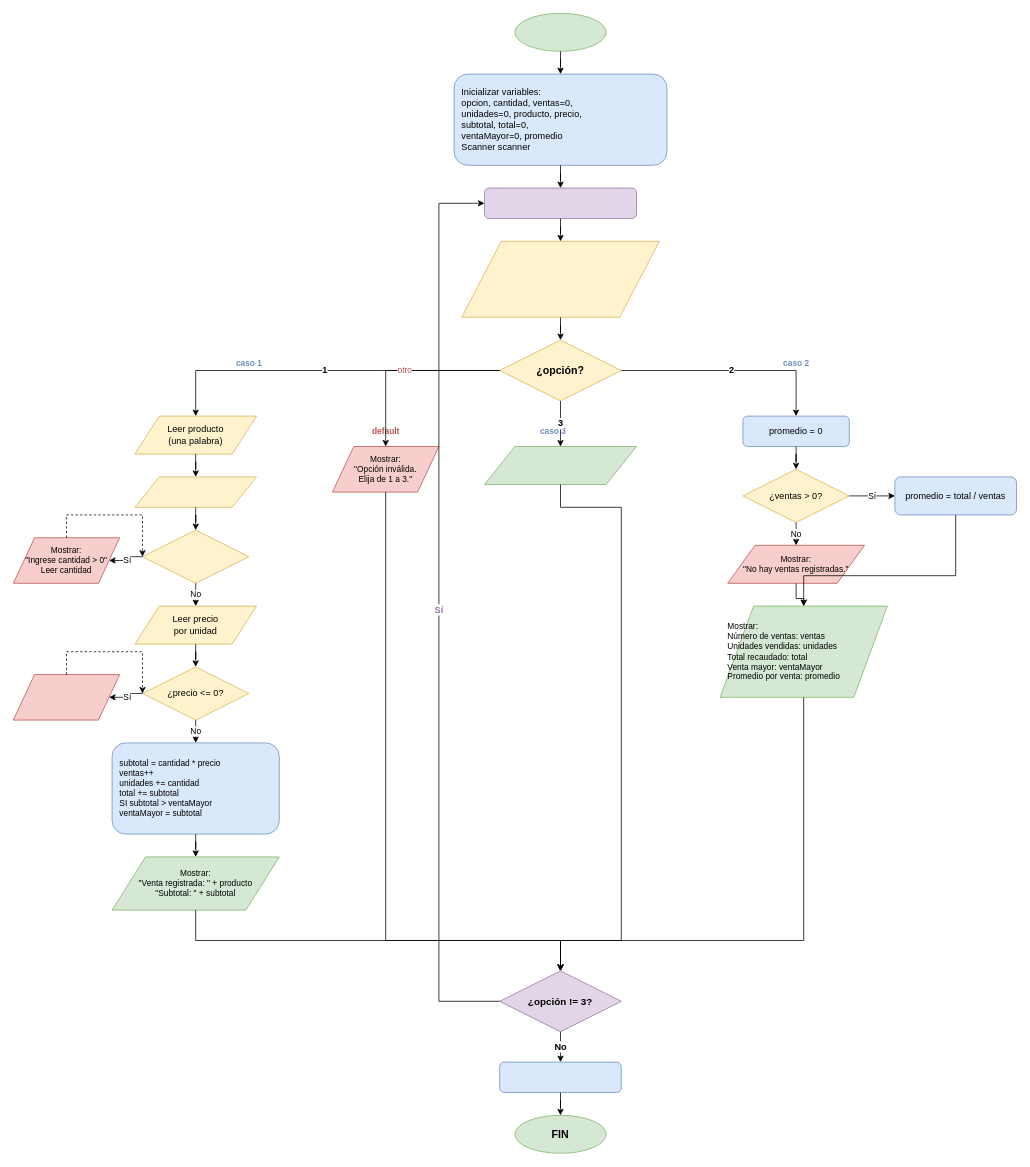
Some shapes in this 1030 by 1167 pixel diagram are drawn without their labels. The shapes that lost their labels are listed below. From the top down, each one's box as (x1, y1, x2, y2) in pixels, then its label:
(514, 13, 606, 51): INICIO
(484, 187, 636, 218): DO (Repetir)
(461, 241, 659, 317): Mostrar menú: 1. Registrar venta 2. Mostrar estadísticas 3. Salir Leer opción
(484, 446, 636, 484): Mostrar: "Programa finalizado."
(134, 476, 256, 507): Leer cantidad
(142, 529, 249, 583): ¿cantidad <= 0?
(13, 674, 120, 720): Mostrar: "Ingrese precio > 0" Leer precio
(499, 1061, 621, 1092): scanner.close()
